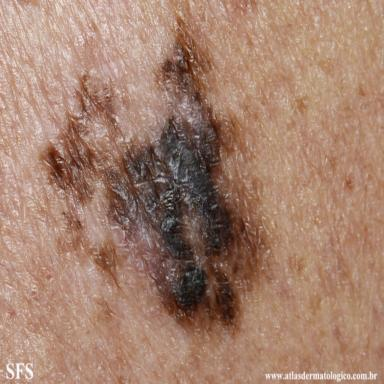Melanoma: (39, 19, 267, 329)
